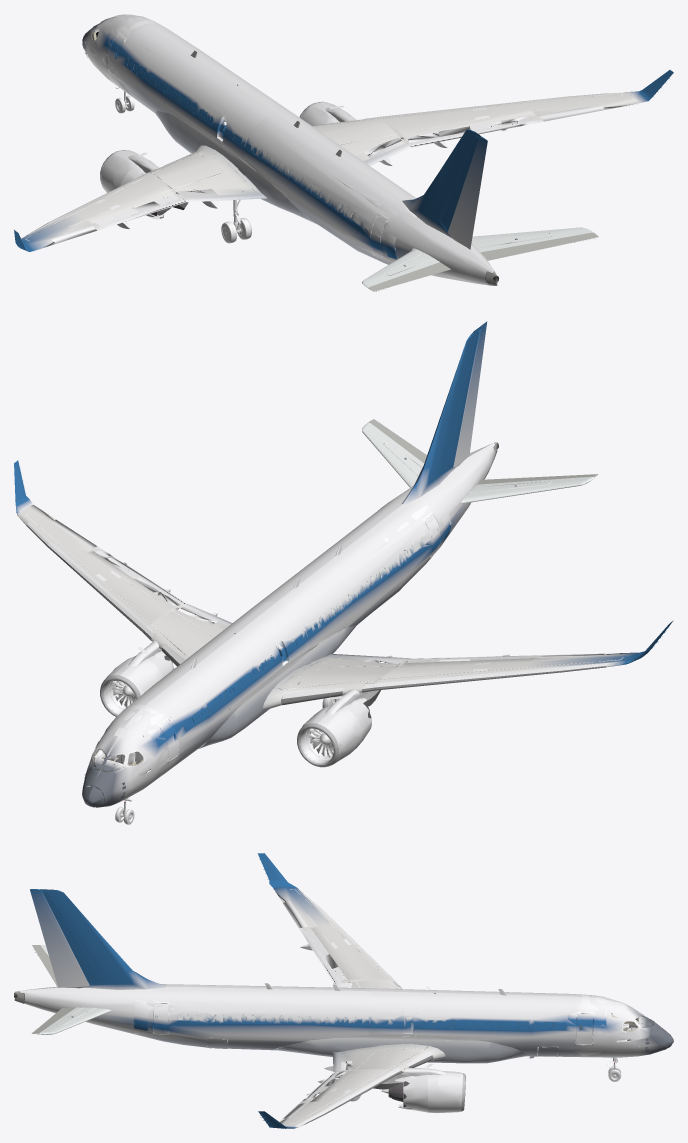
The picture shows the model from 3 angles, top to bottom: view 1: azimuth 30°, elevation 25°; view 2: azimuth 150°, elevation 25°; view 3: azimuth 270°, elevation 25°; orthographic projection. The views are drawn at different scales.
Parts seen in each view (by area): view 1: a220.001_Reversethrustpart1Mtl_0, a220_Fuselage0051Mtl_0, a220.034_Fuselage0312Mtl_0, gear_ml; view 2: a220.001_Reversethrustpart1Mtl_0, a220_Fuselage0051Mtl_0, a220.034_Fuselage0312Mtl_0, gear_ml; view 3: a220.001_Reversethrustpart1Mtl_0, a220_Fuselage0051Mtl_0, a220.034_Fuselage0312Mtl_0.
Boxes of the visible parts, left/top/right/bottom form: a220.001_Reversethrustpart1Mtl_0: left=14, top=14, right=673, bottom=285; a220_Fuselage0051Mtl_0: left=18, top=14, right=669, bottom=291; a220.034_Fuselage0312Mtl_0: left=125, top=57, right=380, bottom=237; gear_ml: left=101, top=184, right=251, bottom=243; a220.001_Reversethrustpart1Mtl_0: left=14, top=321, right=673, bottom=807; a220_Fuselage0051Mtl_0: left=24, top=329, right=669, bottom=807; a220.034_Fuselage0312Mtl_0: left=183, top=528, right=439, bottom=731; gear_ml: left=297, top=696, right=341, bottom=767; a220.001_Reversethrustpart1Mtl_0: left=19, top=853, right=673, bottom=1128; a220_Fuselage0051Mtl_0: left=14, top=859, right=665, bottom=1126; a220.034_Fuselage0312Mtl_0: left=155, top=1013, right=566, bottom=1029.
Bounding box in the file's own units: 19.12 × 6.58 × 20.66.
3 materials, 3 textured.
